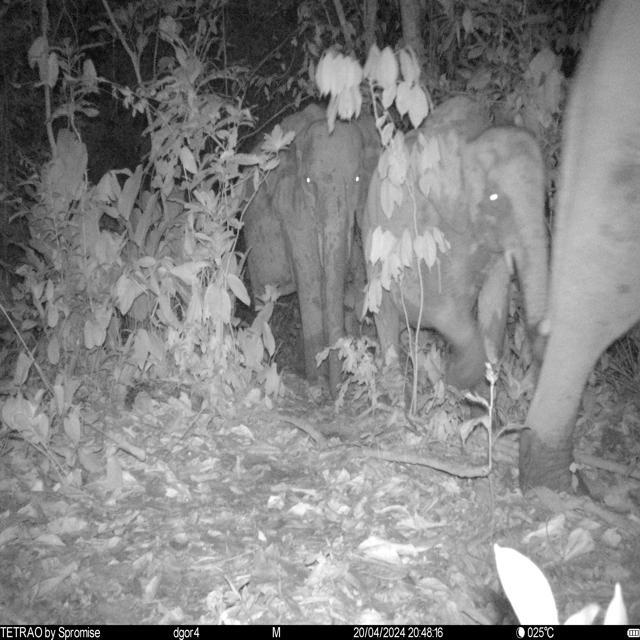elephant: (354, 90, 550, 432), (525, 0, 640, 508), (227, 102, 389, 393)
